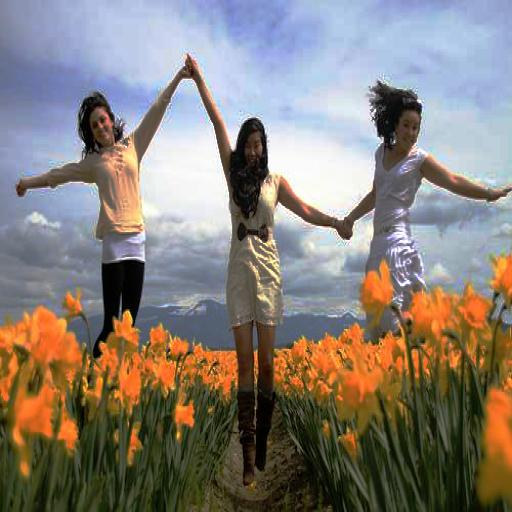tulip: (38, 329, 79, 403), (450, 290, 492, 348), (340, 370, 382, 428), (404, 291, 442, 346), (356, 266, 394, 320), (111, 311, 141, 355), (491, 256, 512, 315), (171, 392, 195, 429), (58, 282, 82, 318), (215, 375, 234, 406), (167, 332, 186, 360), (147, 321, 165, 346), (292, 337, 306, 363)
